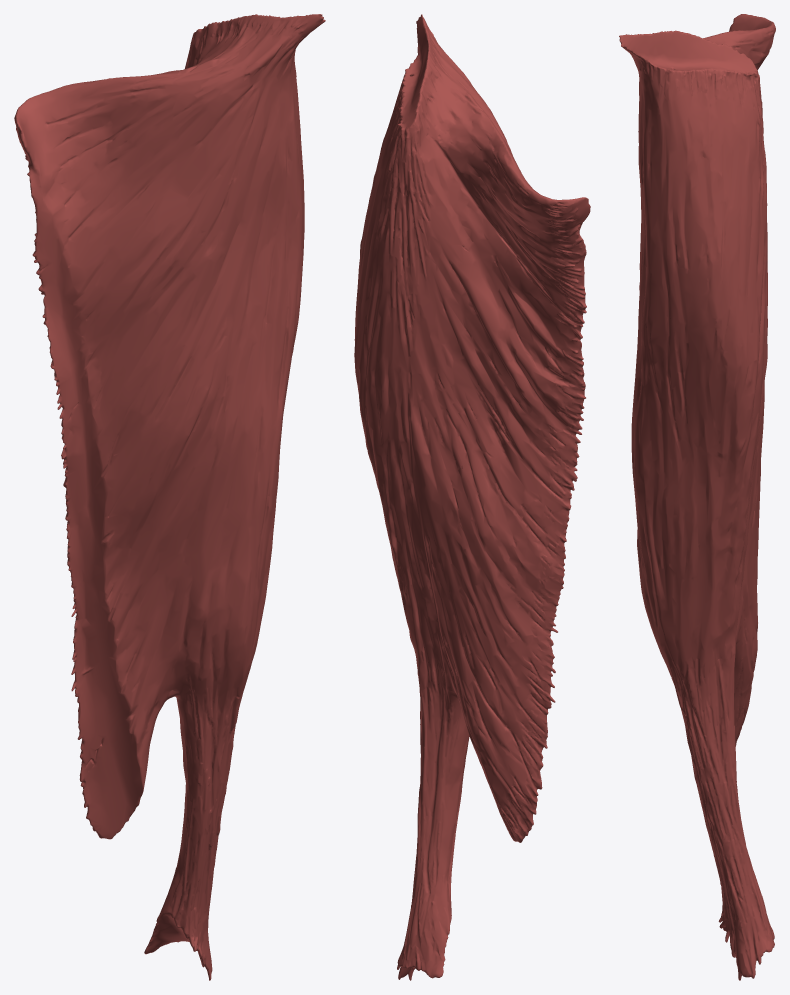
Rendered from FMA22459.glb.
3 renders of one model, left to right at view 1: azimuth 30°, elevation 25°; view 2: azimuth 150°, elevation 25°; view 3: azimuth 270°, elevation 25°, orthographic. The views are drawn at different scales.
Visible parts, largest first — view 1: FMA22459; view 2: FMA22459; view 3: FMA22459.
Part boxes in pixels (box(x1,y1,x2,y2)): FMA22459: box(14, 14, 325, 980); FMA22459: box(354, 14, 590, 980); FMA22459: box(619, 14, 775, 980).
Size of the model in its own units: 0.0946 by 0.3465 by 0.0508.
